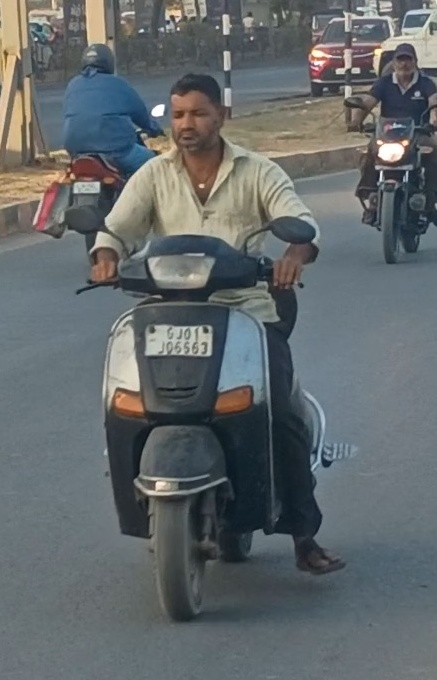BikeWithRider: (65, 66, 362, 625), (27, 38, 172, 269), (338, 37, 437, 269)
Helmet: (73, 39, 120, 79)
NoHelmet: (154, 70, 236, 154), (385, 39, 424, 80)
